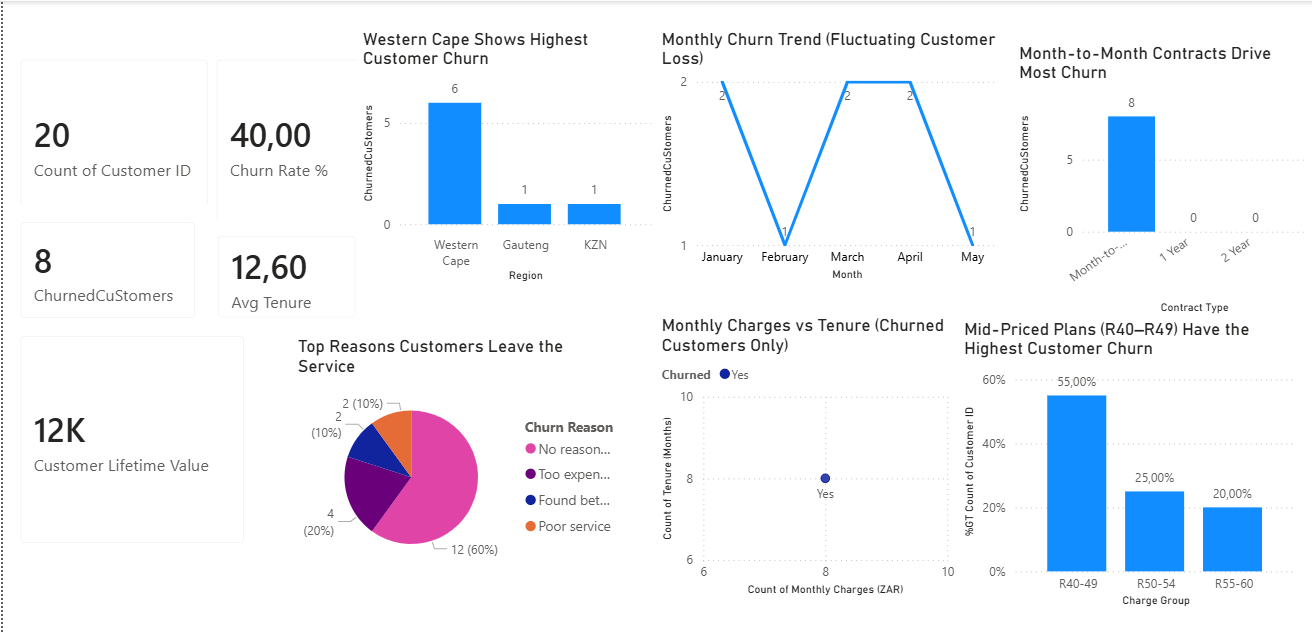

This screenshot's page, from the dashboard's own definition file:
{"tool":"powerbi","page":{"name":"Dashboard","canvas":[1280,720],"ordinal":0},"visuals":[{"type":"cardVisual","fields":{"Data":["CountNonNull(Table1.Customer ID)","Table1.Churn Rate %"]},"box":[0,39.8,410.3,200.3],"z":0},{"type":"clusteredColumnChart","title":"Western Cape Shows Highest Customer Churn","fields":{"Category":["Table1.Region"],"Y":["Table1.ChurnedCuStomers"]},"box":[347.2,27.4,292.3,252.5],"z":1000},{"type":"clusteredColumnChart","title":"Mid-Priced Plans (R40–R49) Have the Highest Customer Churn","fields":{"Category":["Table1.Charge Group"],"Y":["CountNonNull(Table1.Customer ID)"]},"box":[935.5,310.6,335.1,287.4],"z":2000},{"type":"pieChart","title":"Top Reasons Customers Leave the Service","fields":{"Category":["Table1.Churn Reason"],"Y":["CountNonNull(Table1.Customer ID)"]},"box":[283.7,327.7,327.7,238.5],"z":3000},{"type":"lineChart","title":"Monthly Churn Trend (Fluctuating Customer Loss)","fields":{"Category":["Table1.Order Date.Variation.Date Hierarchy.Month"],"Y":["Table1.ChurnedCuStomers"]},"box":[639.5,26.9,338.7,251.9],"z":4000},{"type":"scatterChart","title":"Monthly Charges vs Tenure (Churned Customers Only)","fields":{"X":["CountNonNull(Table1.Monthly Charges (ZAR))"],"Y":["CountNonNull(Table1.Tenure (Months))"],"Series":["Table1.Churned"]},"box":[639.5,307.4,296.4,279.9],"z":5000},{"type":"cardVisual","fields":{"Data":["Table1.Avg Tenure"]},"box":[193.2,212.8,170,114.9],"z":6000},{"type":"cardVisual","fields":{"Data":["Table1.Churned CuStomer"]},"box":[0,199.3,205.4,128.4],"z":7000},{"type":"clusteredColumnChart","title":"Month-to-Month Contracts Drive Most Churn","fields":{"Category":["Table1.Contract Type"],"Y":["Table1.ChurnedCuStomers"]},"box":[989.4,39.8,290.9,270.3],"z":8000},{"type":"cardVisual","fields":{"Data":["Table1.Customer Lifetime Value"]},"box":[0,310.1,253.9,237.4],"z":9000}]}

Visuals, with their boxes on the page's 1280x720 design canvas (x1, y1, x2, y2). These are canvas units, not pixel positions in the 1312x632 screenshot, which may show the page scaled, cropped or inside an application window:
cardVisual - CountNonNull(Table1.Customer ID) x Table1.Churn Rate %: [left=0, top=40, right=410, bottom=240]
"Western Cape Shows Highest Customer Churn" clusteredColumnChart: [left=347, top=27, right=640, bottom=280]
"Mid-Priced Plans (R40–R49) Have the Highest Customer Churn" clusteredColumnChart: [left=936, top=311, right=1271, bottom=598]
"Top Reasons Customers Leave the Service" pieChart: [left=284, top=328, right=611, bottom=566]
"Monthly Churn Trend (Fluctuating Customer Loss)" lineChart: [left=640, top=27, right=978, bottom=279]
"Monthly Charges vs Tenure (Churned Customers Only)" scatterChart: [left=640, top=307, right=936, bottom=587]
cardVisual - Table1.Avg Tenure: [left=193, top=213, right=363, bottom=328]
cardVisual - Table1.Churned CuStomer: [left=0, top=199, right=205, bottom=328]
"Month-to-Month Contracts Drive Most Churn" clusteredColumnChart: [left=989, top=40, right=1280, bottom=310]
cardVisual - Table1.Customer Lifetime Value: [left=0, top=310, right=254, bottom=548]
